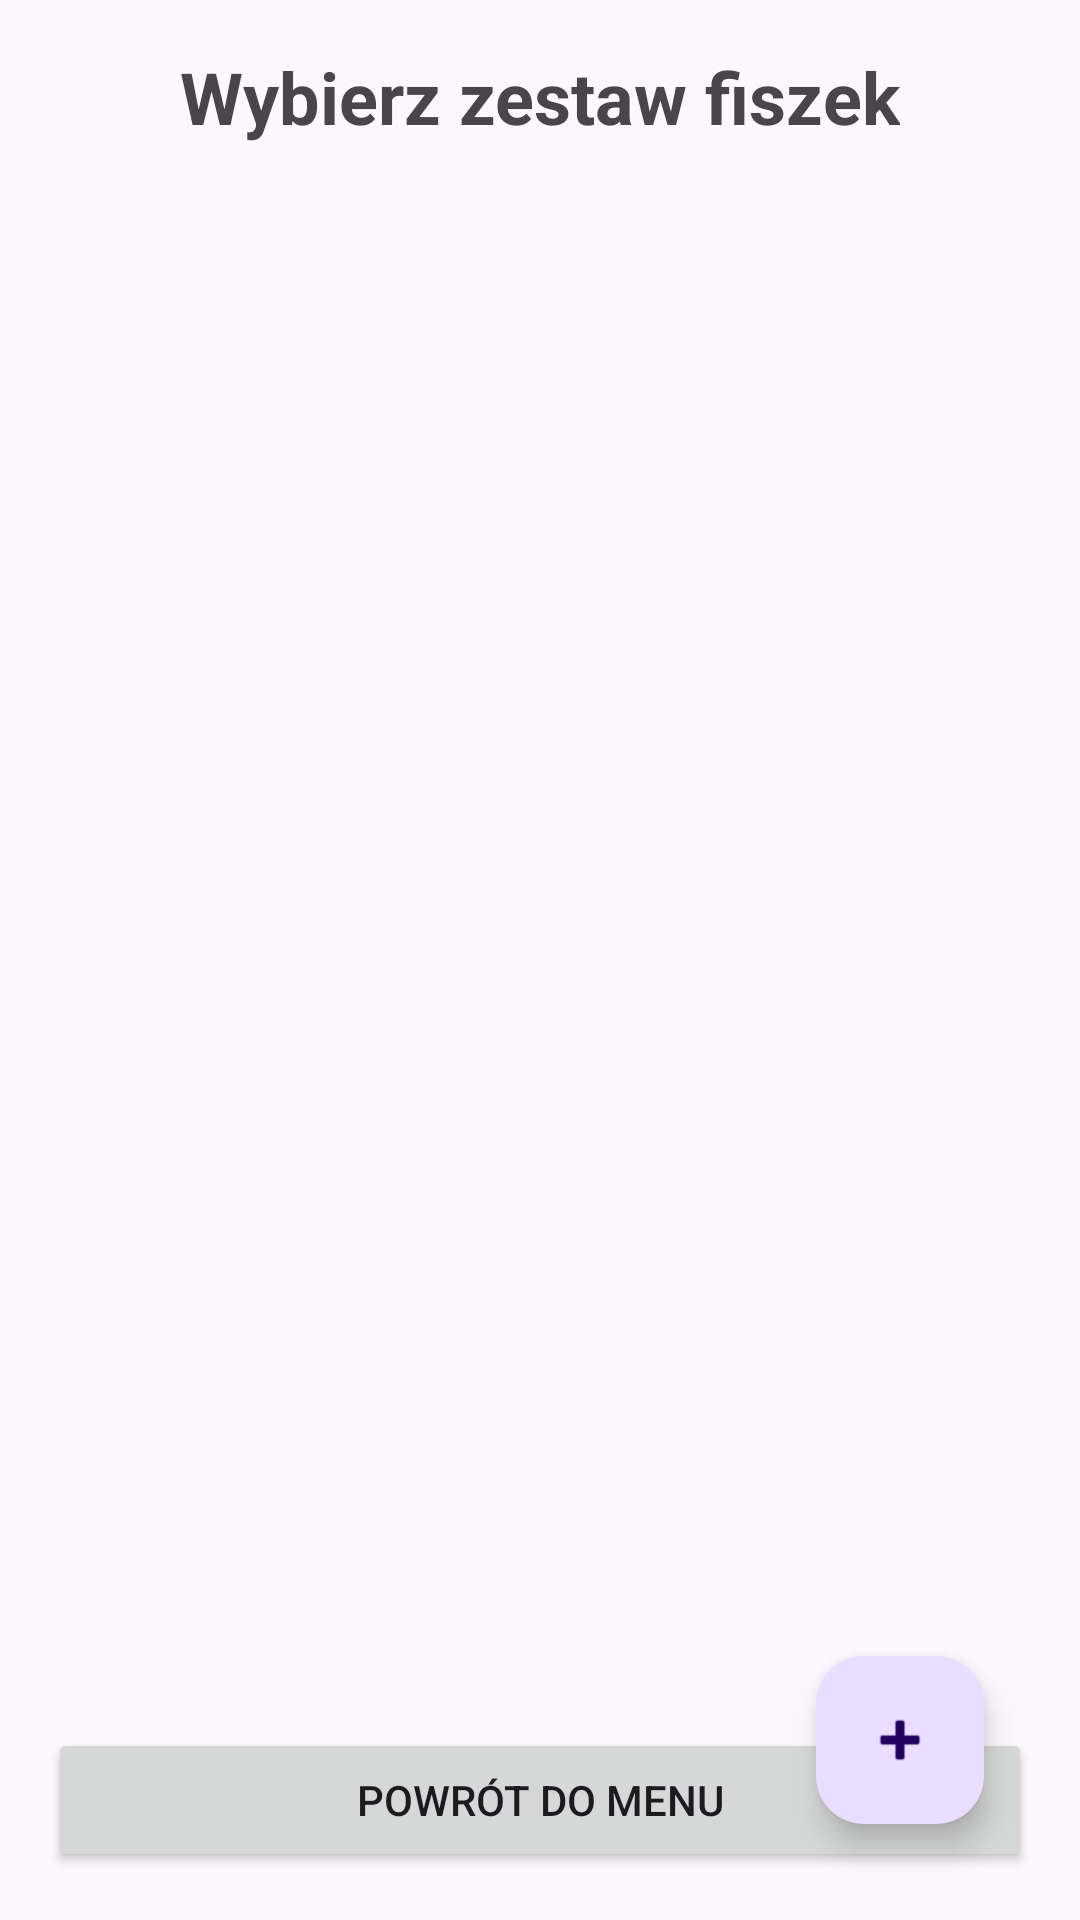

Where to tap for icons on this 1080×1920 app screen, as (x=x, y=y):
Dodaj nowy zestaw: (x=900, y=1740)
